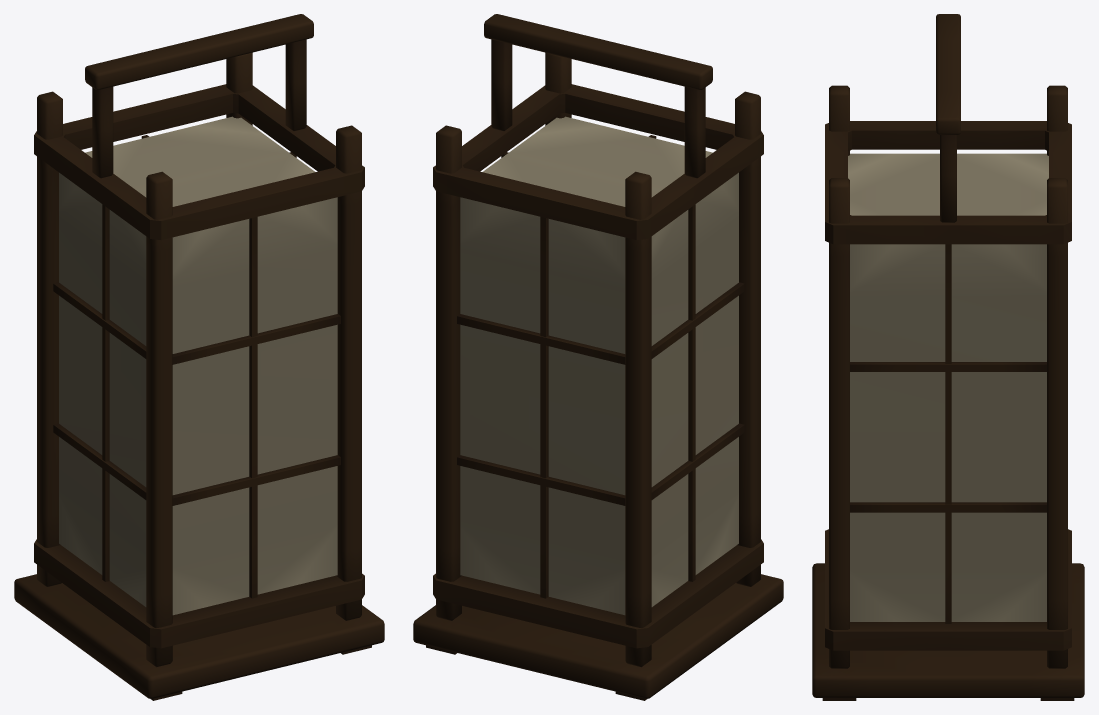
File: lamp-andon.glb
The picture shows the model from 3 angles, left to right: view 1: azimuth 30°, elevation 25°; view 2: azimuth 150°, elevation 25°; view 3: azimuth 270°, elevation 25°; orthographic projection.
Parts seen in each view (by area): view 1: base, paper; view 2: base, paper; view 3: paper, base.
Boxes of the visible parts, x1,y1,x2,y2 form: base: (14,14,384,700); paper: (59,116,337,615); base: (413,14,783,700); paper: (460,116,738,615); paper: (848,153,1048,621); base: (812,14,1084,700).
Bounding box in the file's own units: 0.13 × 0.3065 × 0.13.
